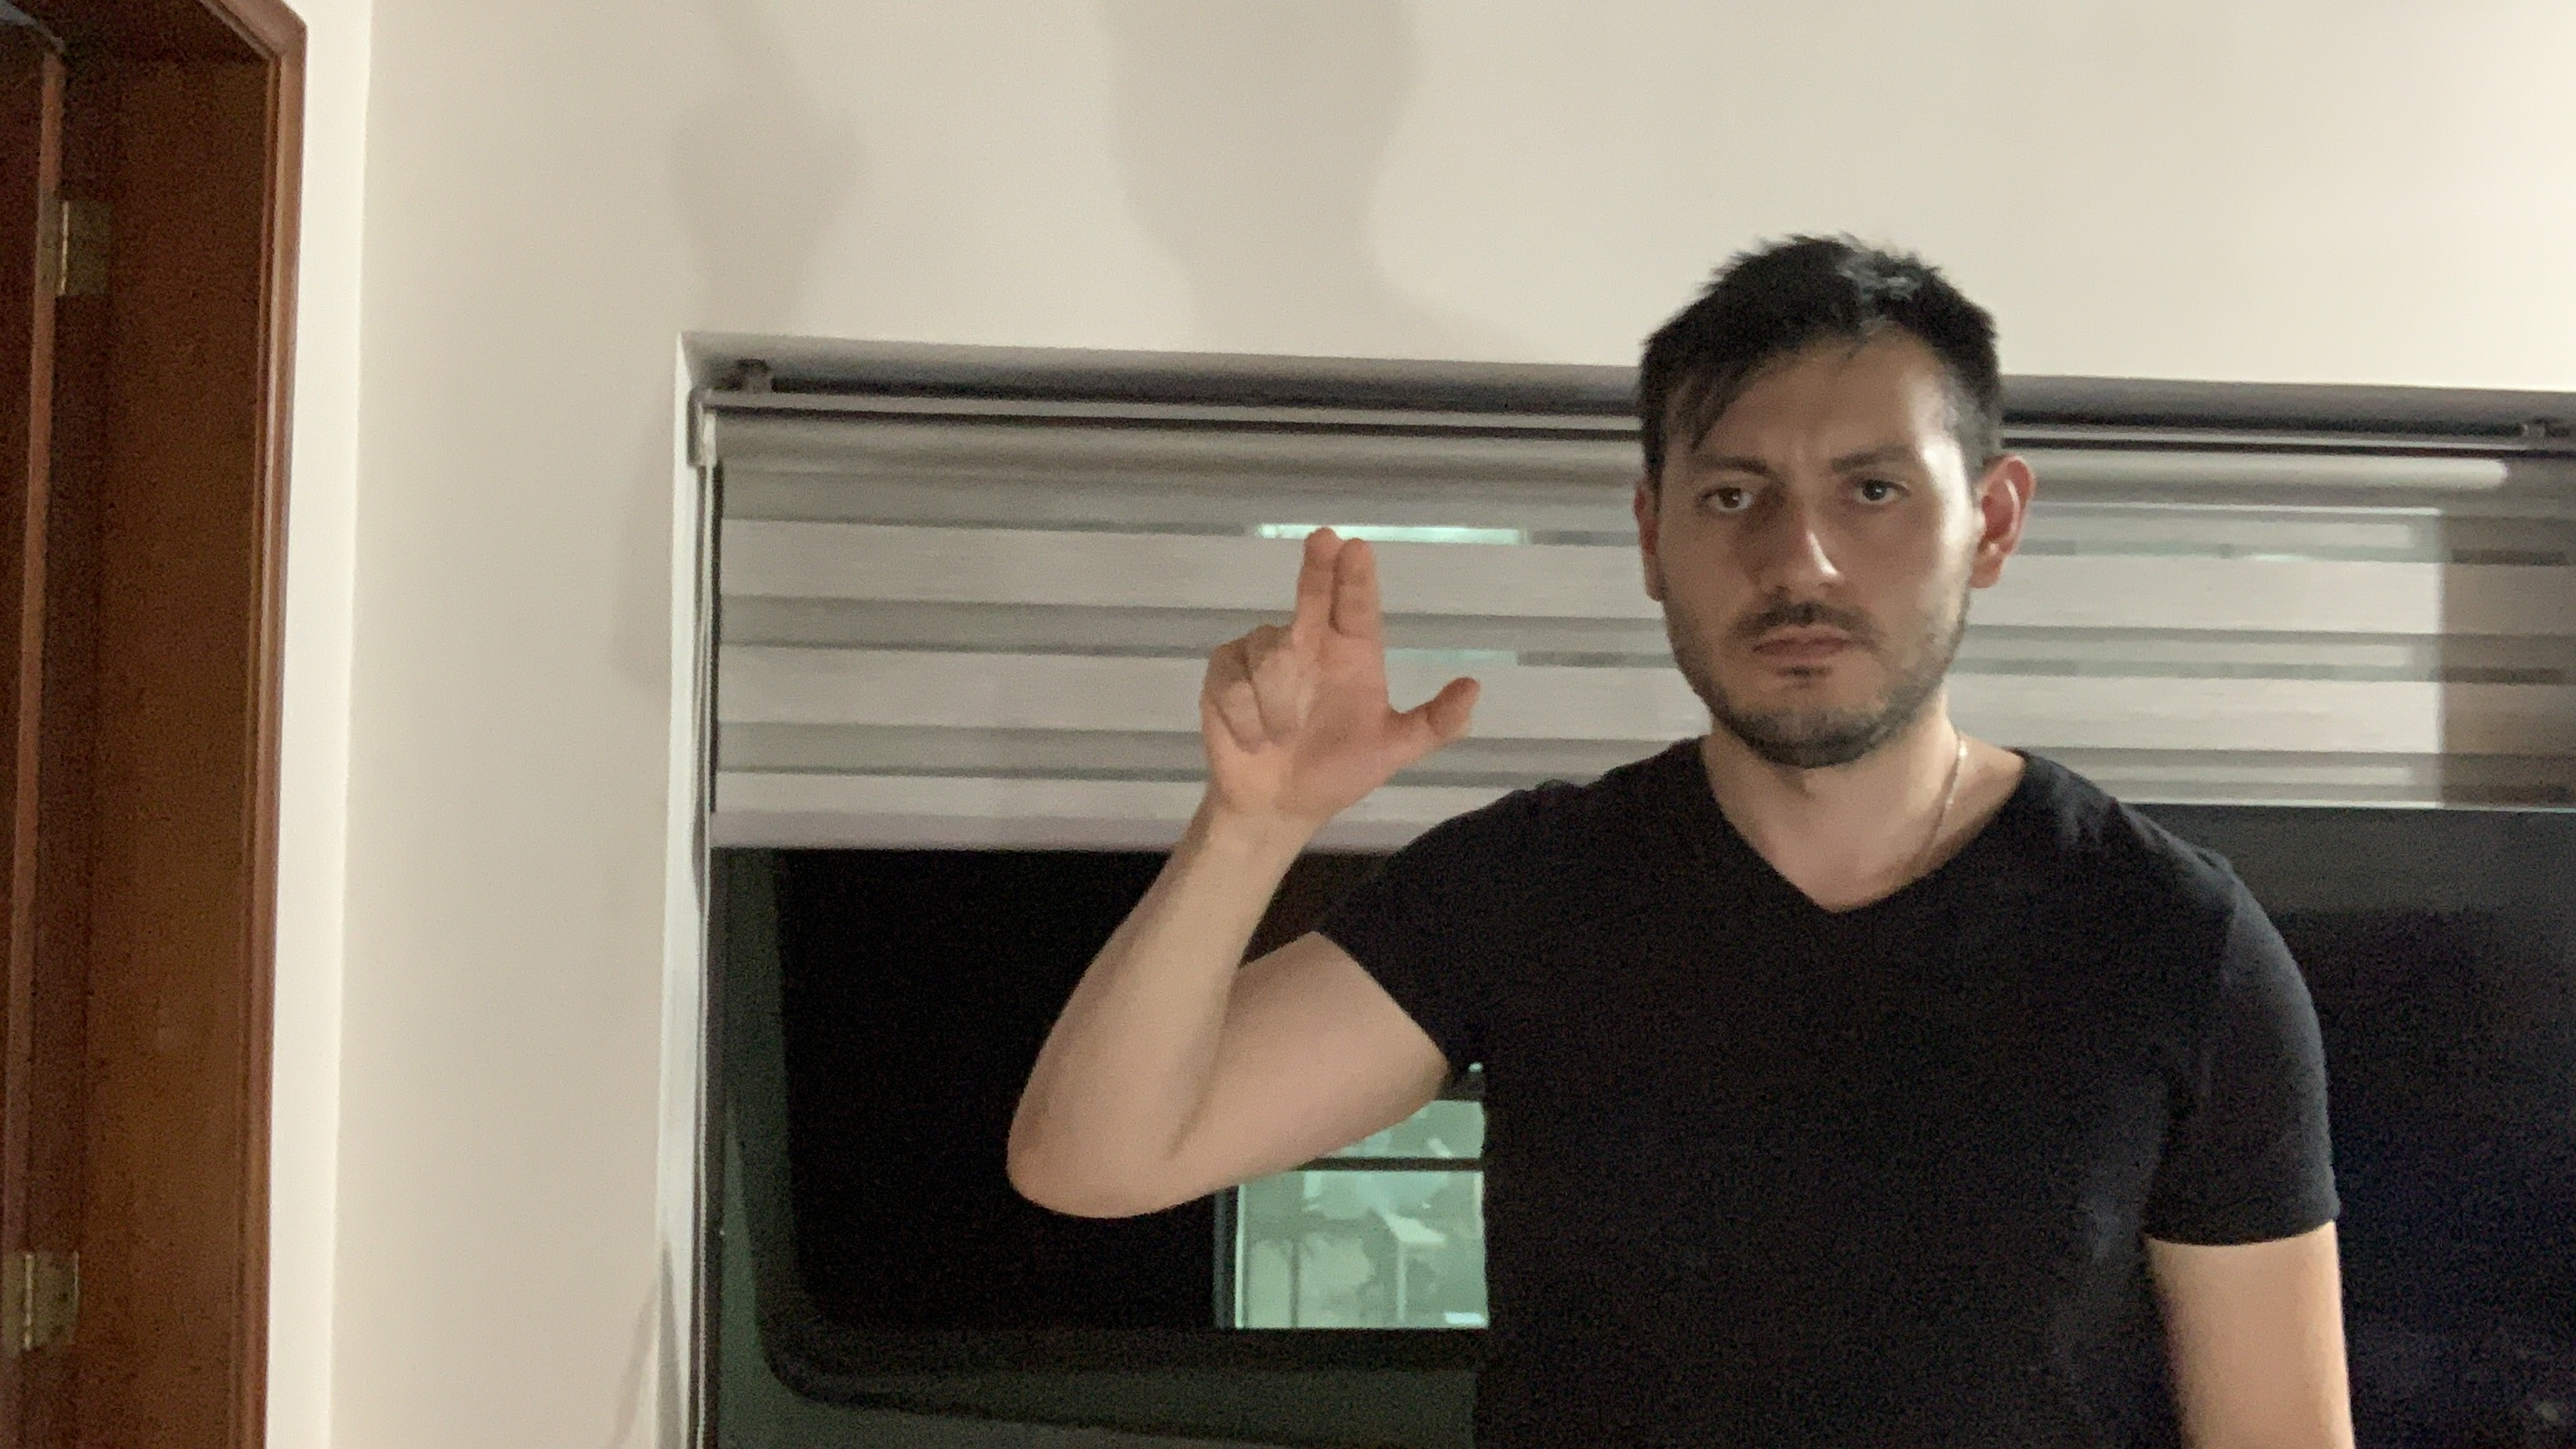No: (1185, 524, 1493, 828)
